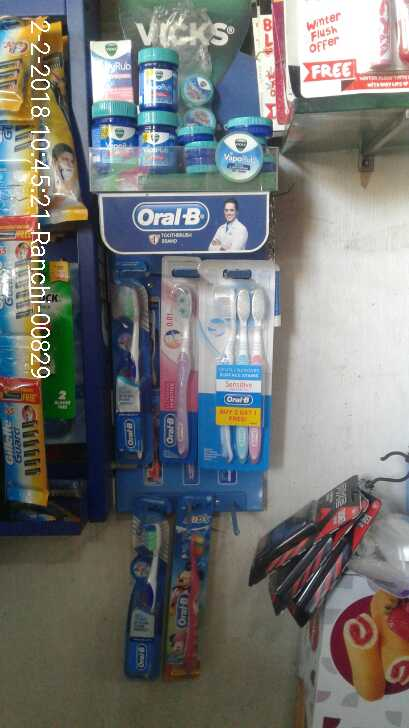pharmacy: (84, 40, 280, 175), (203, 258, 274, 467), (127, 494, 169, 685), (112, 268, 155, 454), (161, 252, 199, 460), (175, 494, 214, 674)
